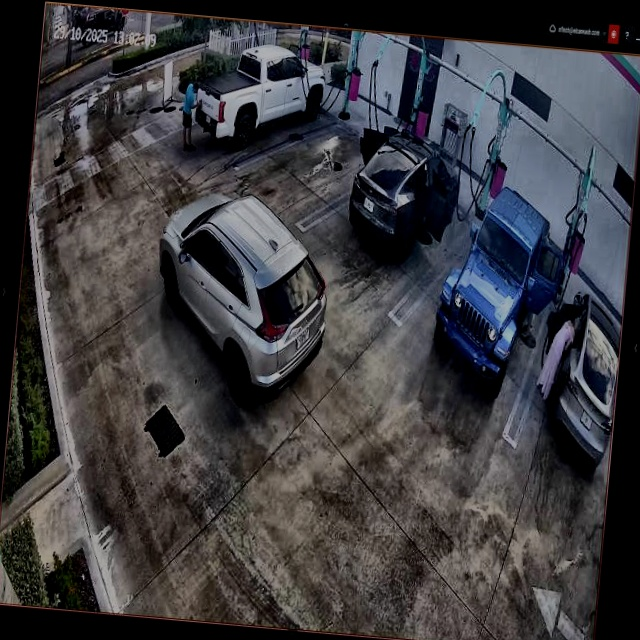Car: (145, 183, 340, 407), (428, 190, 568, 400), (350, 126, 464, 266)
